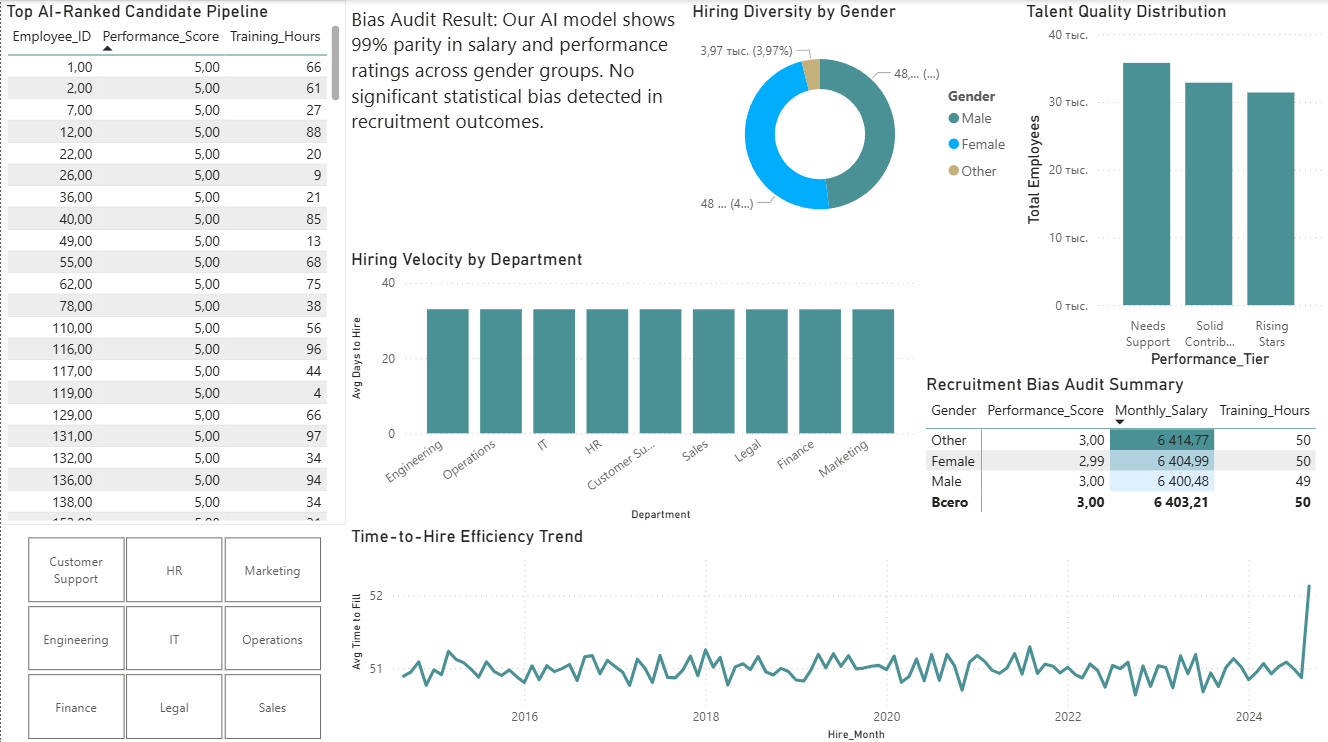

Layout of this report page (visuals, bound fields, positions):
{"tool":"powerbi","page":{"name":"Recruitment Intelligence","canvas":[1280,720],"ordinal":1},"visuals":[{"type":"tableEx","title":"Top AI-Ranked Candidate Pipeline","fields":{"Values":["processed_employee_data.Employee_ID","Avg(processed_employee_data.Performance_Score)","Avg(processed_employee_data.Training_Hours)"]},"box":[0,0,332.5,507.3],"z":0},{"type":"donutChart","title":"Hiring Diversity by Gender","fields":{"Category":["processed_employee_data.Gender"],"Y":["CountNonNull(processed_employee_data.Employee_ID)"]},"box":[662.2,0,322.6,240.1],"z":1000},{"type":"clusteredColumnChart","title":"Talent Quality Distribution","fields":{"Y":["processed_employee_data.Total Employees"],"Category":["processed_employee_data.Performance_Tier"]},"box":[984.7,0,295.6,359.5],"z":2000},{"type":"clusteredColumnChart","title":"Hiring Velocity by Department","fields":{"Category":["processed_employee_data.Department"],"Y":["processed_employee_data.Avg Days to Hire"]},"box":[332.5,240.1,555.6,267.1],"z":3000},{"type":"pivotTable","title":"Recruitment Bias Audit Summary","fields":{"Rows":["processed_employee_data.Gender"],"Values":["Avg(processed_employee_data.Performance_Score)","Avg(processed_employee_data.Monthly_Salary)","Avg(processed_employee_data.Training_Hours)"]},"box":[888.1,360.9,392.2,146.4],"z":4000},{"type":"textbox","box":[332.5,0,329.7,137.8],"z":5000},{"type":"lineChart","title":"Time-to-Hire Efficiency Trend","fields":{"Y":["processed_employee_data.Avg Time to Fill"],"Category":["processed_employee_data.Hire_Month"]},"box":[332.5,507.3,947.8,213.1],"z":6000},{"type":"slicer","fields":{"Values":["processed_employee_data.Department"]},"box":[0,511.5,332.5,208.9],"z":7000}]}

Visuals, with their boxes in screenshot pixels (x1, y1, x2, y2), scaled from the page's 1280x720 canvas onto the 1328x742 screenshot:
"Top AI-Ranked Candidate Pipeline" tableEx: <region>0, 0, 345, 523</region>
"Hiring Diversity by Gender" donutChart: <region>687, 0, 1022, 247</region>
"Talent Quality Distribution" clusteredColumnChart: <region>1022, 0, 1327, 370</region>
"Hiring Velocity by Department" clusteredColumnChart: <region>345, 247, 921, 523</region>
"Recruitment Bias Audit Summary" pivotTable: <region>921, 372, 1327, 523</region>
textbox: <region>345, 0, 687, 142</region>
"Time-to-Hire Efficiency Trend" lineChart: <region>345, 523, 1327, 741</region>
slicer - processed_employee_data.Department: <region>0, 527, 345, 741</region>
